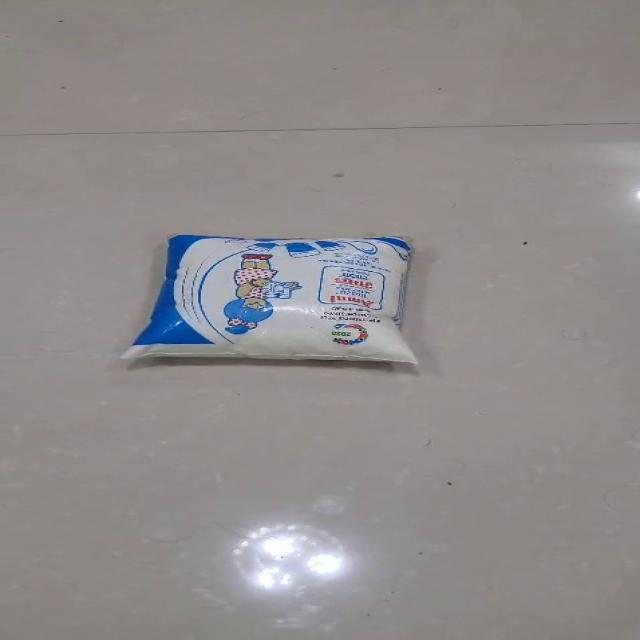plastic: (119, 232, 418, 364)
